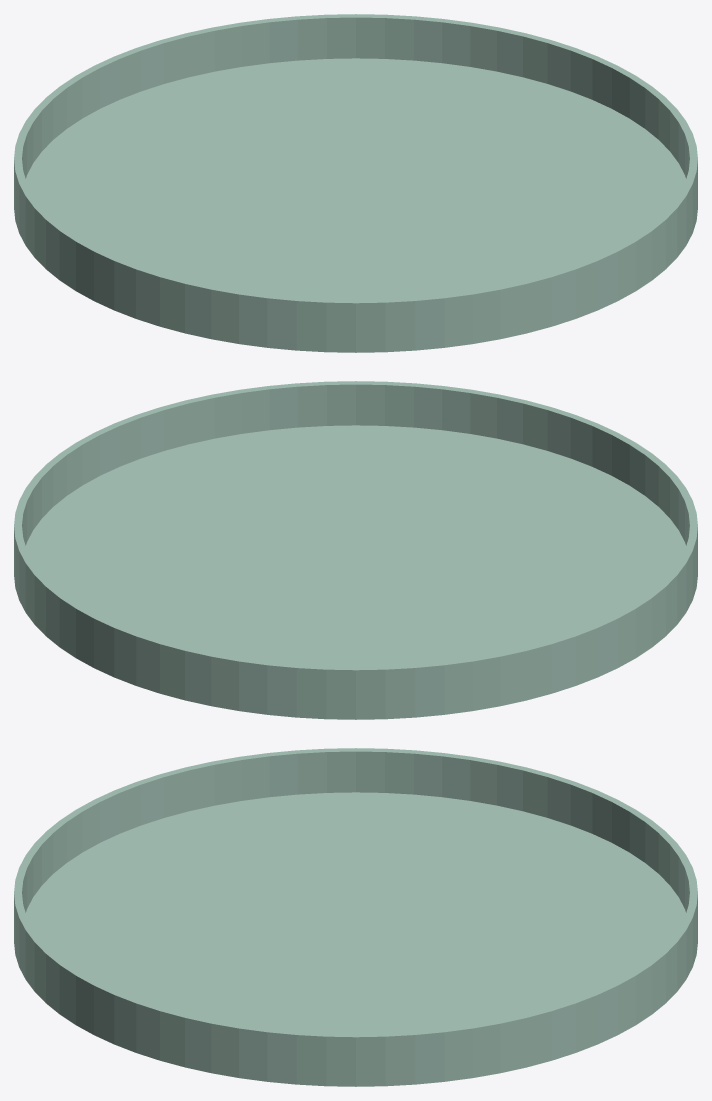
The model's file is probeta.dae.
3 views of the same model, one above another, from view 1: azimuth 30°, elevation 25°; view 2: azimuth 150°, elevation 25°; view 3: azimuth 270°, elevation 25° (orthographic).
Visible parts, largest first — view 1: node; view 2: node; view 3: node.
Part boxes in pixels (left/top/right/bottom): node: left=14, top=14, right=697, bottom=352; node: left=14, top=381, right=697, bottom=719; node: left=14, top=748, right=697, bottom=1086.
Bounding box in the file's own units: 600 × 48 × 600.
1 material, 1 textured.
